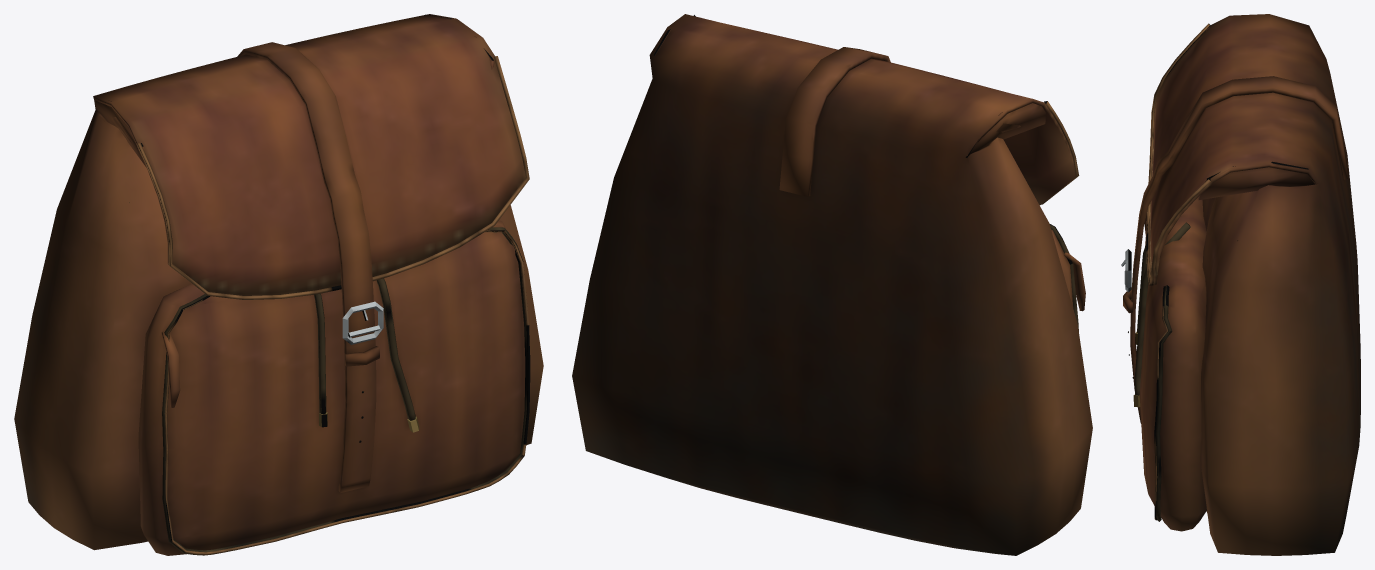
The model's file is AmberTravelerEvenStrap.glb.
The picture shows the model from 3 angles, left to right: view 1: azimuth 30°, elevation 25°; view 2: azimuth 150°, elevation 25°; view 3: azimuth 270°, elevation 25°; orthographic projection. The views are drawn at different scales.
Parts seen in each view (by area): view 1: Amber traveler • uniform-width closure and seated ties; view 2: Amber traveler • uniform-width closure and seated ties; view 3: Amber traveler • uniform-width closure and seated ties.
Boxes of the visible parts, left/top/right/bottom form: Amber traveler • uniform-width closure and seated ties: left=14, top=14, right=543, bottom=555; Amber traveler • uniform-width closure and seated ties: left=572, top=14, right=1092, bottom=555; Amber traveler • uniform-width closure and seated ties: left=1121, top=14, right=1360, bottom=555.
Bounding box in the file's own units: 1.14 × 1.02 × 0.5707.
8 materials, 8 textured.
